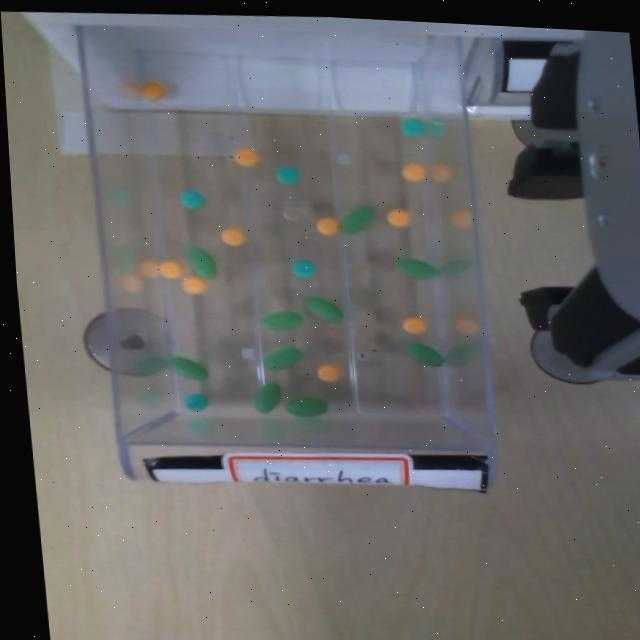famodine: (176, 190, 204, 208), (180, 393, 206, 411), (289, 260, 314, 278), (399, 119, 424, 137), (274, 166, 298, 184), (398, 118, 422, 136), (179, 191, 202, 209), (275, 166, 298, 184), (290, 261, 314, 277), (182, 394, 205, 410)
otillen_tab: (334, 206, 374, 235), (302, 296, 344, 322), (260, 346, 303, 371), (403, 342, 444, 367), (250, 382, 282, 414), (304, 296, 341, 322), (166, 356, 206, 380), (338, 207, 373, 234), (406, 342, 443, 367), (393, 257, 435, 279), (282, 397, 328, 417), (258, 310, 303, 330), (185, 248, 214, 279), (168, 357, 206, 380), (262, 348, 301, 370), (395, 258, 436, 278), (284, 398, 326, 417), (253, 384, 279, 413), (260, 312, 300, 330)
samsung_octylonium_tab: (138, 81, 164, 101), (218, 227, 245, 246), (137, 82, 163, 101), (232, 148, 257, 167), (384, 208, 410, 226), (179, 276, 205, 294), (232, 148, 256, 167), (314, 217, 338, 236), (314, 364, 339, 382), (400, 162, 425, 180), (157, 261, 182, 279), (314, 217, 338, 235), (219, 228, 243, 246), (401, 317, 425, 335), (179, 277, 204, 294), (400, 164, 425, 181), (315, 364, 338, 382), (157, 260, 181, 277), (401, 317, 425, 334), (385, 210, 408, 227)
